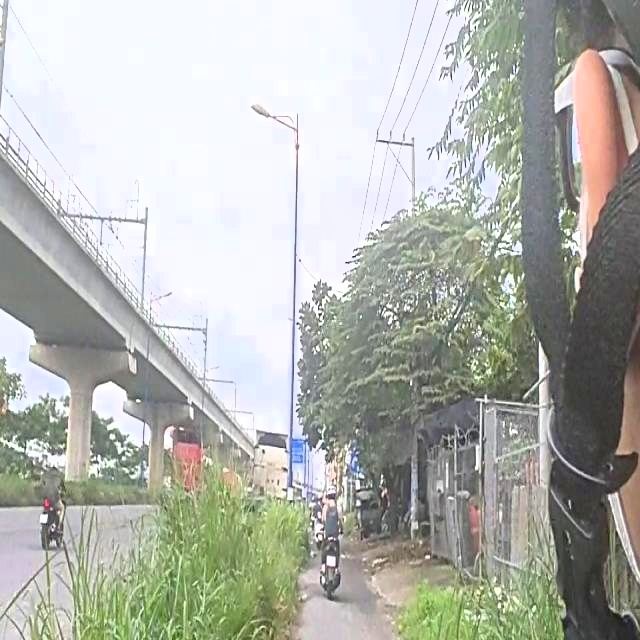I.409: (349, 450, 363, 474)
